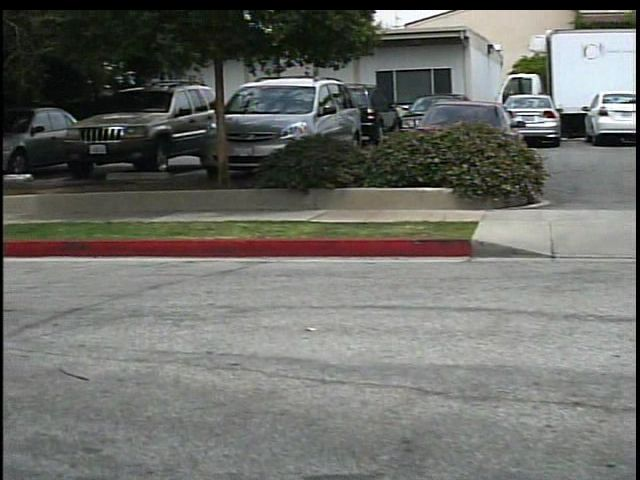car: (58, 70, 200, 173), (207, 70, 349, 173), (1, 108, 59, 172), (499, 92, 563, 147), (583, 92, 636, 145)
